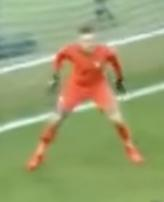goalkeeper: (21, 17, 153, 186)
